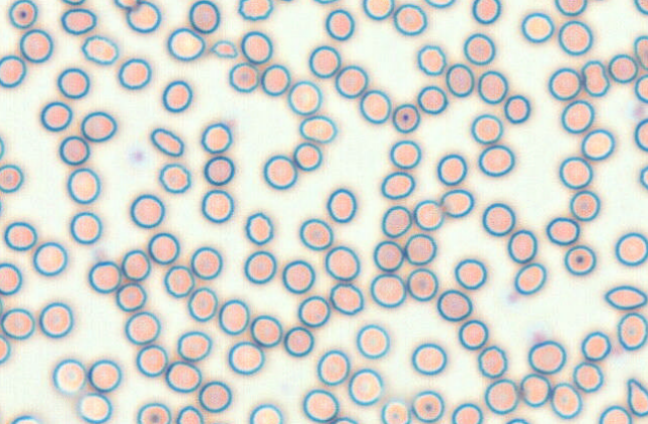PLT: (131, 147, 148, 165)
RBC: (527, 339, 566, 374), (348, 367, 383, 405), (324, 245, 360, 281), (38, 301, 73, 338), (167, 27, 205, 61), (124, 310, 160, 345), (228, 340, 264, 375), (484, 378, 519, 414), (129, 193, 165, 228), (369, 273, 406, 307), (302, 388, 339, 422), (287, 80, 322, 115), (262, 154, 297, 189), (32, 241, 67, 276), (52, 358, 86, 394), (316, 349, 350, 385), (19, 28, 53, 63), (558, 20, 592, 55), (355, 323, 389, 358), (165, 360, 201, 393), (67, 167, 100, 203), (550, 382, 582, 419), (80, 110, 117, 142), (81, 34, 119, 65), (616, 312, 647, 350), (334, 64, 368, 98), (560, 99, 594, 133), (281, 259, 315, 293), (88, 358, 122, 392), (126, 0, 161, 33), (558, 156, 593, 189), (614, 231, 647, 266), (411, 342, 446, 375), (436, 289, 472, 321), (478, 144, 514, 176), (218, 298, 249, 335), (298, 114, 337, 143), (329, 282, 363, 315), (482, 202, 515, 236), (117, 57, 151, 90), (299, 217, 333, 250), (201, 189, 234, 223), (243, 250, 276, 284), (359, 89, 391, 124), (0, 307, 35, 339), (604, 284, 647, 310), (76, 392, 112, 423), (326, 187, 357, 223), (548, 67, 581, 100), (308, 45, 341, 78), (513, 262, 546, 295), (88, 260, 121, 293), (135, 344, 168, 377), (411, 389, 444, 422), (69, 211, 102, 244), (240, 30, 272, 64), (406, 267, 438, 301), (393, 3, 427, 35), (519, 373, 551, 407), (56, 67, 90, 99), (198, 380, 232, 412), (581, 128, 615, 160), (187, 286, 218, 321), (176, 330, 211, 361), (581, 59, 610, 96), (188, 0, 220, 33), (297, 295, 330, 327), (521, 11, 554, 43), (463, 32, 495, 65), (250, 314, 282, 347), (190, 246, 222, 279), (477, 70, 508, 104), (161, 79, 192, 113), (60, 7, 97, 35), (404, 233, 436, 265), (200, 121, 232, 153), (470, 113, 503, 144), (158, 162, 191, 193), (563, 244, 596, 275), (507, 229, 537, 263), (150, 127, 184, 157), (545, 216, 580, 245), (381, 205, 412, 237), (372, 240, 404, 271), (163, 265, 194, 297), (436, 153, 467, 185), (454, 258, 486, 289), (148, 232, 179, 264), (40, 100, 72, 131), (260, 63, 290, 96), (477, 345, 507, 378), (4, 221, 37, 251), (440, 188, 474, 217), (445, 63, 474, 97), (244, 211, 273, 245), (380, 171, 415, 199), (413, 199, 444, 230), (572, 361, 603, 392), (283, 326, 314, 357), (569, 190, 600, 221), (389, 139, 421, 169), (58, 135, 90, 165), (121, 249, 151, 281), (228, 62, 259, 92), (416, 44, 446, 75), (458, 319, 488, 350), (581, 330, 611, 361), (203, 155, 234, 185), (325, 8, 354, 40), (608, 53, 638, 83), (292, 141, 322, 171), (115, 282, 146, 311), (417, 85, 448, 114), (0, 54, 26, 88), (392, 102, 420, 133), (8, 0, 38, 28), (626, 377, 647, 416), (503, 94, 530, 123), (380, 398, 410, 423), (136, 402, 171, 423), (0, 262, 22, 295), (237, 0, 273, 20), (471, 0, 501, 24), (0, 163, 23, 193), (249, 403, 283, 423), (451, 402, 483, 423), (362, 0, 394, 20), (598, 405, 632, 423), (554, 0, 587, 16), (633, 34, 647, 70), (176, 405, 204, 423), (634, 117, 647, 151), (634, 73, 647, 103), (0, 334, 11, 363), (10, 414, 40, 423), (113, 0, 138, 10), (424, 0, 455, 8), (634, 0, 648, 15), (639, 164, 647, 190), (329, 416, 358, 423), (504, 417, 529, 423), (60, 0, 85, 5), (0, 135, 5, 159), (312, 0, 340, 4), (0, 194, 3, 218), (275, 0, 297, 2)
Schistocyte: (210, 39, 239, 60)
